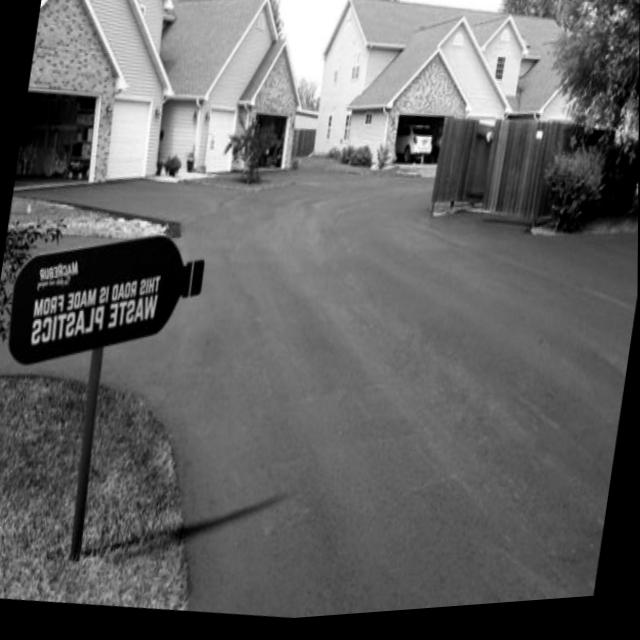cleat: (0, 41, 639, 623)
